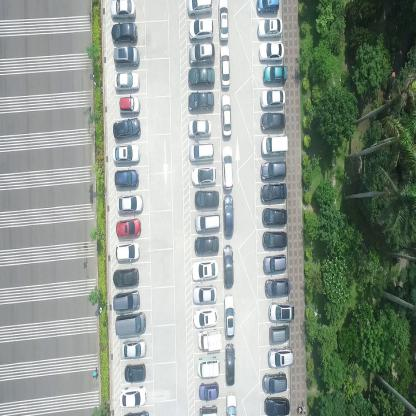car: (115, 310, 146, 338), (118, 384, 146, 410), (112, 289, 140, 313), (113, 118, 141, 140), (260, 136, 288, 158), (197, 327, 221, 352), (189, 43, 215, 66), (192, 256, 218, 279), (112, 21, 138, 44), (117, 192, 144, 214), (261, 372, 288, 394), (267, 346, 293, 368), (268, 301, 294, 323), (264, 276, 290, 298), (113, 267, 139, 289), (256, 19, 283, 40), (259, 161, 286, 182), (196, 355, 219, 379), (222, 144, 234, 190), (191, 164, 216, 186), (192, 284, 217, 306), (188, 92, 214, 113), (188, 19, 214, 40), (114, 46, 140, 67), (260, 231, 287, 251), (112, 144, 140, 163), (262, 253, 286, 275), (260, 91, 286, 111), (259, 183, 285, 203), (260, 207, 286, 227), (194, 212, 220, 232), (224, 292, 235, 339), (188, 68, 215, 87), (220, 92, 231, 138), (188, 118, 212, 139), (194, 235, 218, 256), (193, 306, 217, 327), (258, 42, 283, 62), (121, 338, 146, 358), (116, 218, 141, 238), (115, 242, 140, 262), (194, 190, 219, 210), (223, 193, 234, 238), (259, 113, 285, 132), (110, 0, 136, 19), (264, 396, 290, 415), (188, 143, 215, 161), (124, 361, 146, 383), (262, 66, 286, 86), (115, 72, 140, 91), (219, 45, 230, 88), (223, 243, 233, 289), (115, 170, 139, 189), (225, 341, 235, 386), (187, 0, 213, 17), (198, 380, 219, 401), (268, 324, 290, 344), (118, 95, 140, 114), (218, 0, 228, 41), (255, 0, 280, 15), (226, 392, 236, 415), (198, 404, 217, 415)
